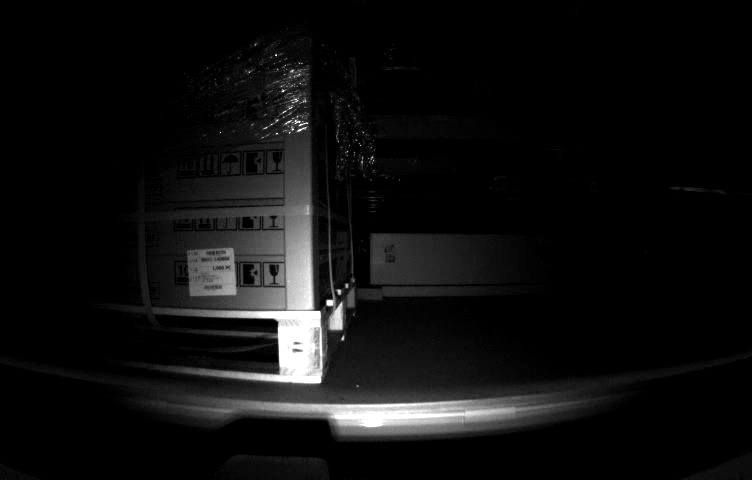True Barcode: (184, 246, 238, 296)
